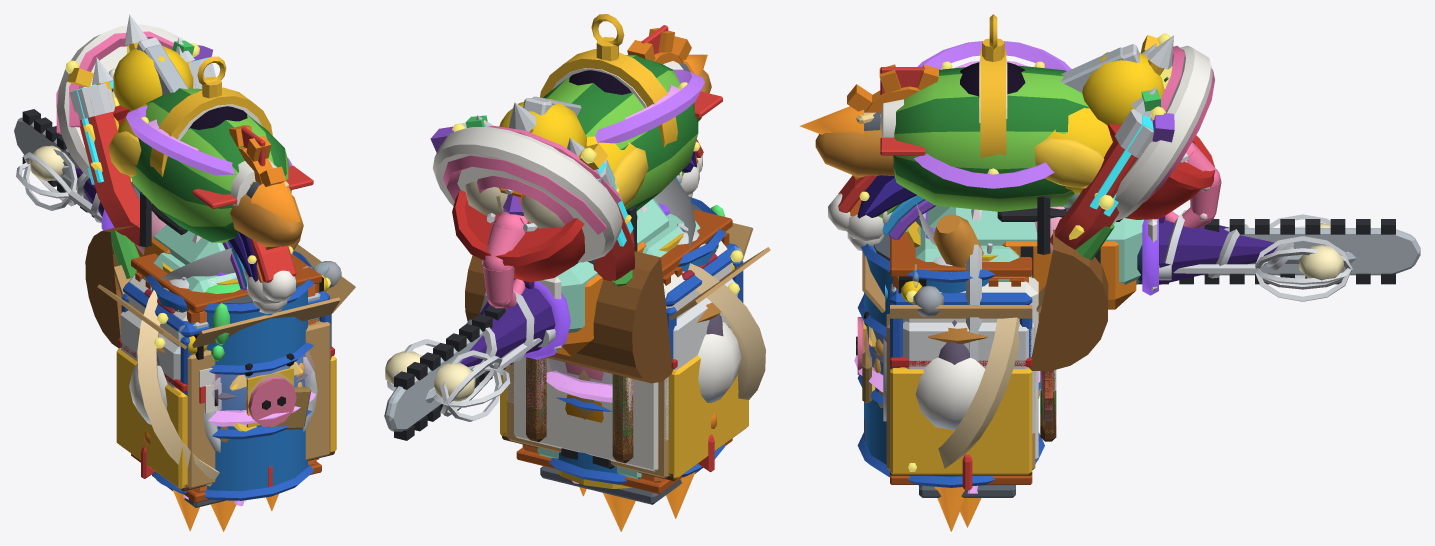
File: equipment.glb
3 views of the same model, side by side, from view 1: azimuth 30°, elevation 25°; view 2: azimuth 150°, elevation 25°; view 3: azimuth 270°, elevation 25° (orthographic). The views are drawn at different scales.
Visible parts, largest first — view 1: Body.041, Body.031, Body.007, Body.039, Body.013, Body.008, Body.005, Body.054, Body.027, Body.012, Body.021, Body.047 (+29 smaller); view 2: Body.039, Body.005, Body.037, Body.007, Body.012, Body.004, Body.031, Body.027, Body.008, A, A.003, Body.054 (+28 smaller); view 3: Body.039, Body.007, Body.012, Body.008, Body.005, Body.041, Body.054, Body.013, A.003, B, Body.006, AGlow (+26 smaller).
Boxes of the visible parts, <box> form: Body.041: <box>146,251,315,500</box>; Body.031: <box>97,244,355,488</box>; Body.007: <box>131,88,291,242</box>; Body.039: <box>85,224,336,491</box>; Body.013: <box>67,40,215,246</box>; Body.008: <box>108,45,193,177</box>; Body.005: <box>56,24,191,177</box>; Body.054: <box>137,261,341,486</box>; Body.027: <box>150,56,272,176</box>; Body.012: <box>14,109,187,256</box>; Body.021: <box>222,238,296,313</box>; Body.047: <box>131,253,321,502</box>; Body.039: <box>465,251,748,481</box>; Body.005: <box>433,125,622,262</box>; Body.037: <box>514,241,731,471</box>; Body.007: <box>543,55,698,210</box>; Body.012: <box>384,205,646,440</box>; Body.004: <box>452,190,584,282</box>; Body.031: <box>507,223,770,478</box>; Body.027: <box>540,14,677,147</box>; Body.008: <box>499,98,648,207</box>; A: <box>433,338,541,421</box>; A.003: <box>460,287,555,373</box>; Body.054: <box>531,263,765,416</box>; Body.039: <box>890,229,1108,475</box>; Body.007: <box>893,65,1089,211</box>; Body.012: <box>997,196,1420,309</box>; Body.008: <box>1034,52,1164,193</box>; Body.005: <box>1114,45,1214,221</box>; Body.041: <box>857,227,1044,487</box>; Body.054: <box>913,285,1053,468</box>; Body.013: <box>1050,35,1174,249</box>; A.003: <box>1159,210,1293,284</box>; B: <box>1173,236,1352,301</box>; Body.006: <box>927,205,1171,291</box>; AGlow: <box>914,41,1071,188</box>.
Bounding box in the file's own units: 0.8134 × 1.75 × 1.92.
Materials: 3 (3 with a texture image).
